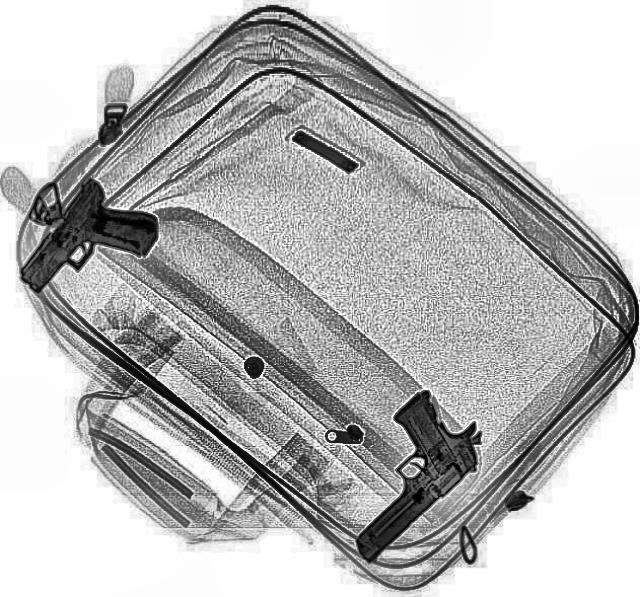Gun: (293, 380, 505, 564), (3, 175, 169, 323)
